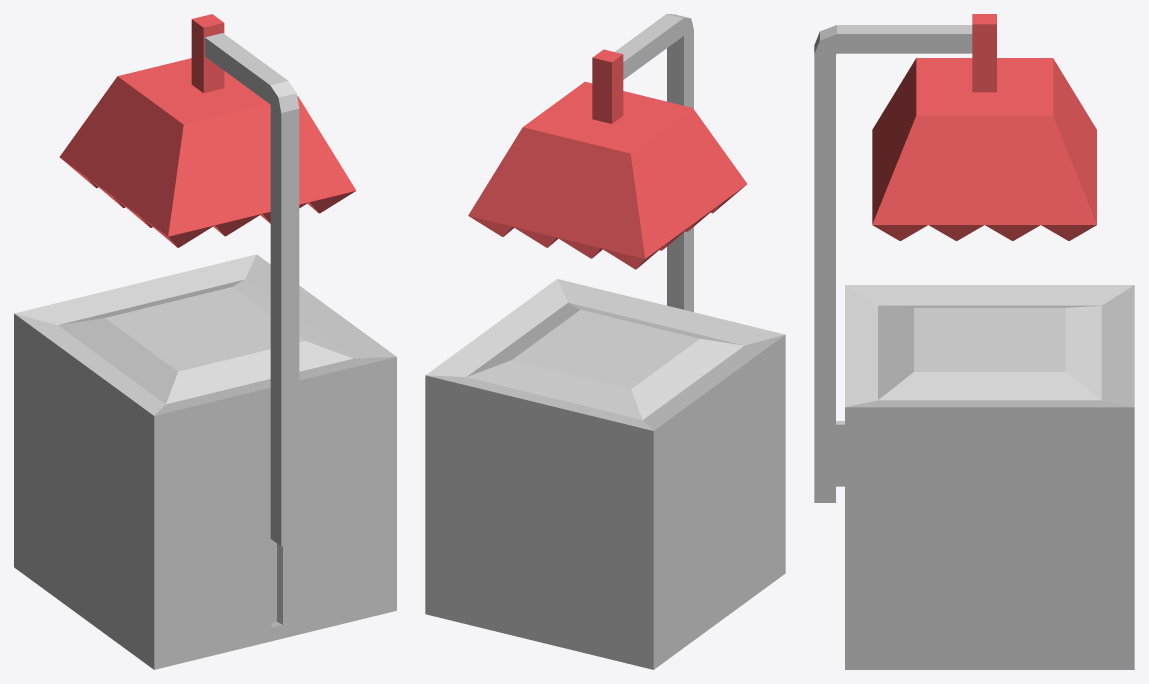
The model's file is Smasher.fbx.
The picture shows the model from 3 angles, left to right: view 1: azimuth 30°, elevation 25°; view 2: azimuth 150°, elevation 25°; view 3: azimuth 270°, elevation 25°; orthographic projection. The views are drawn at different scales.
Parts seen in each view (by area): view 1: Base, Top; view 2: Base, Top; view 3: Base, Top.
Part boxes in pixels (box(x1,y1,x2,y2)): Base: box(14, 254, 396, 669); Top: box(59, 14, 356, 546); Base: box(425, 279, 785, 669); Top: box(468, 14, 747, 311); Base: box(845, 285, 1134, 669); Top: box(814, 14, 1096, 502).
Size of the model in its own units: 200 by 449 by 221.
